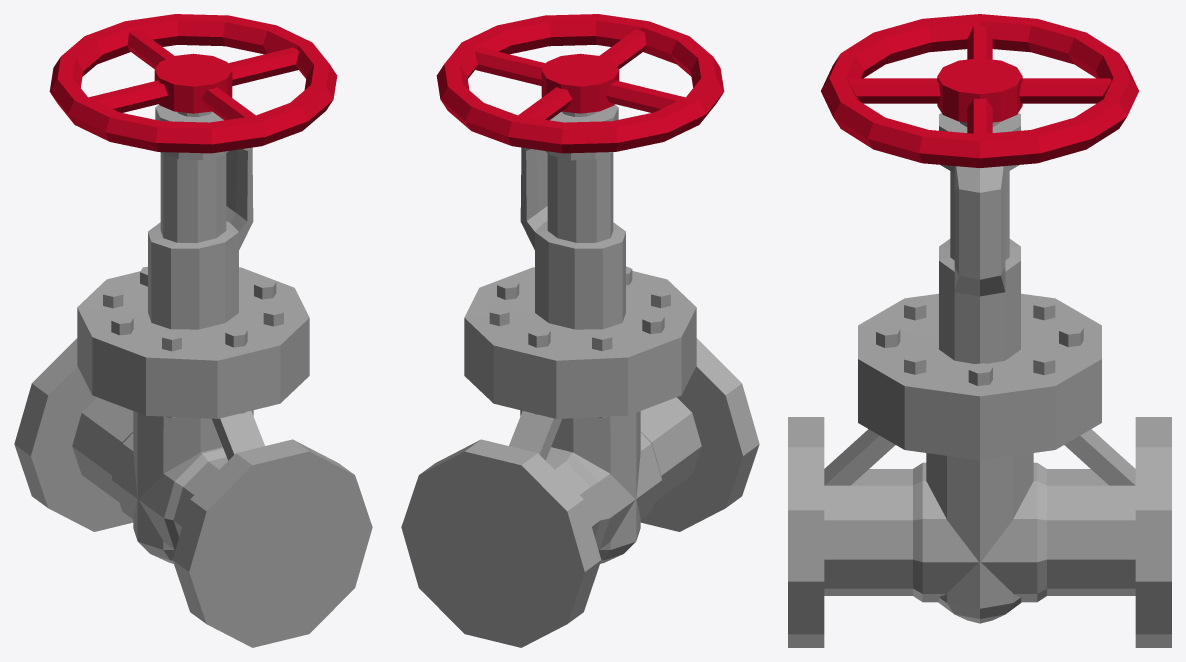
Rendered from Strct_Lvl1_ZoneA_Valve.fbx.
3 views of the same model, side by side, from view 1: azimuth 30°, elevation 25°; view 2: azimuth 150°, elevation 25°; view 3: azimuth 270°, elevation 25° (orthographic). The views are drawn at different scales.
Visible parts, largest first — view 1: Mesh; view 2: Mesh; view 3: Mesh.
Part boxes in pixels (x1,y1,x2,y2): Mesh: (14,14,372,647); Mesh: (401,14,759,647); Mesh: (788,14,1171,647).
Bounding box in the file's own units: 15.9 × 30.66 × 19.17.
